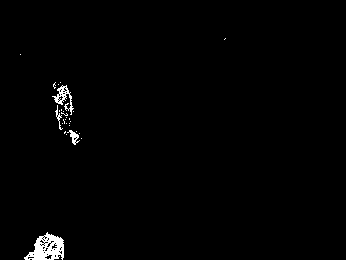person: (43, 75, 84, 151)
